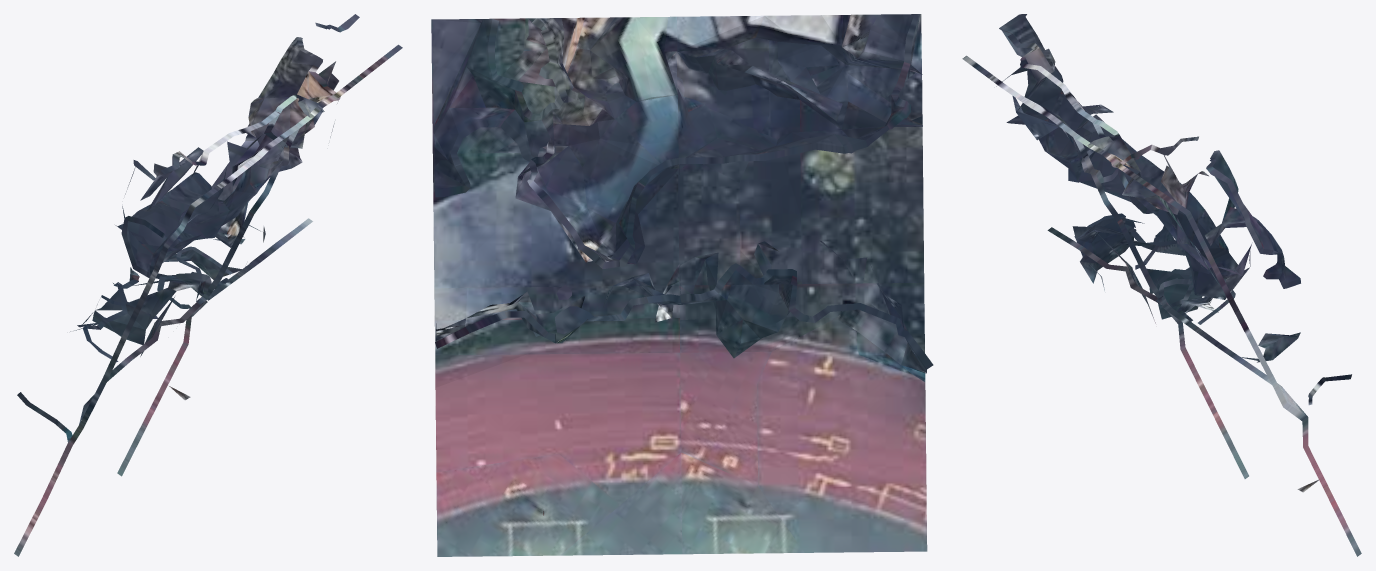
3 renders of one model, left to right at view 1: azimuth 30°, elevation 25°; view 2: azimuth 150°, elevation 25°; view 3: azimuth 270°, elevation 25°, orthographic. The views are drawn at different scales.
Bounding box in the file's own units: 38.44 × 37.21 × 32.22.
2 materials, 2 textured.
